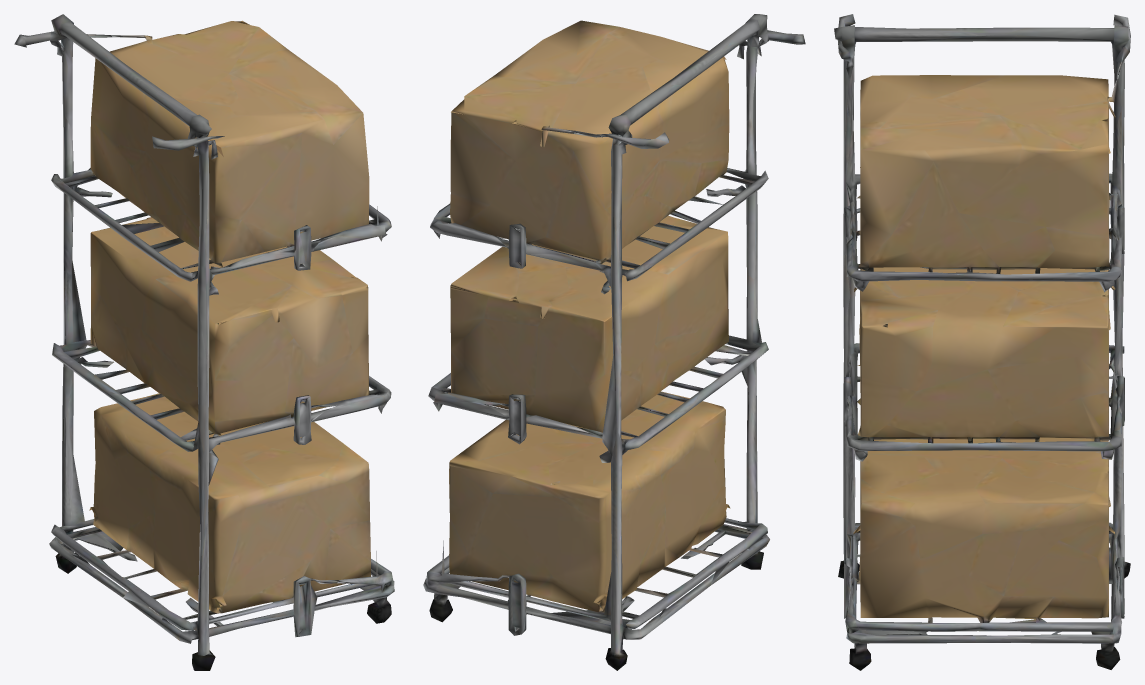
File: samplerack-v2.glb
3 renders of one model, left to right at view 1: azimuth 30°, elevation 25°; view 2: azimuth 150°, elevation 25°; view 3: azimuth 270°, elevation 25°, orthographic.
Parts seen in each view (by area): view 1: prop__samplerack; view 2: prop__samplerack; view 3: prop__samplerack.
Part boxes in pixels (box(x1,y1,x2,y2)): prop__samplerack: box(14, 14, 394, 670); prop__samplerack: box(423, 14, 805, 670); prop__samplerack: box(834, 14, 1130, 670).
Bounding box in the file's own units: 0.5453 × 1.15 × 0.5627.
Materials: 1 (1 with a texture image).
